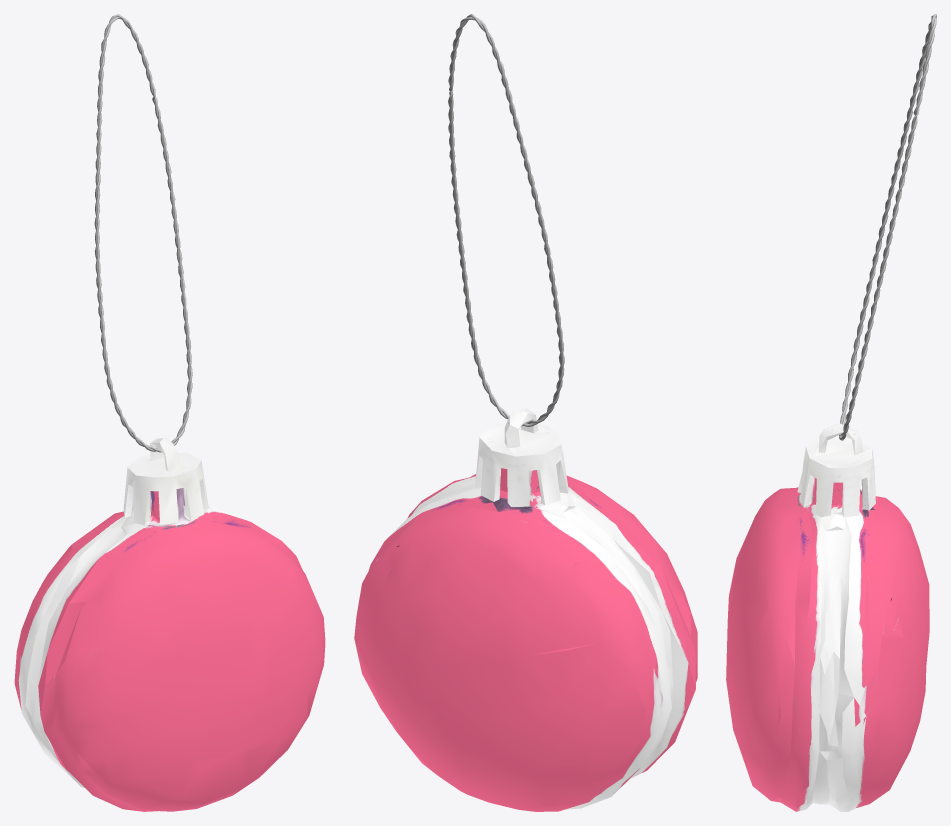
File: macaron2.glb
The picture shows the model from 3 angles, left to right: view 1: azimuth 30°, elevation 25°; view 2: azimuth 150°, elevation 25°; view 3: azimuth 270°, elevation 25°; orthographic projection. The views are drawn at different scales.
Parts seen in each view (by area): view 1: Mesh1.0, GN Instance; view 2: Mesh1.0, GN Instance; view 3: Mesh1.0, GN Instance.
Part boxes in pixels (x1=…): Mesh1.0: x1=14, y1=437, x2=325, y2=811; GN Instance: x1=94, y1=14, x2=192, y2=452; Mesh1.0: x1=354, y1=408, x2=697, y2=811; GN Instance: x1=448, y1=14, x2=564, y2=427; Mesh1.0: x1=726, y1=423, x2=929, y2=811; GN Instance: x1=839, y1=14, x2=936, y2=440.
Size of the model in its own units: 0.0415 by 0.1052 by 0.0257.
Materials: 2 (1 with a texture image).
